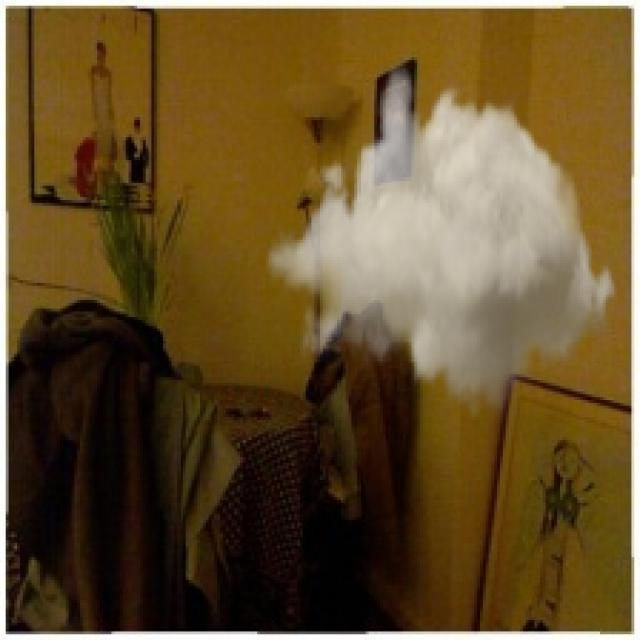Smoke: (266, 60, 620, 423)
